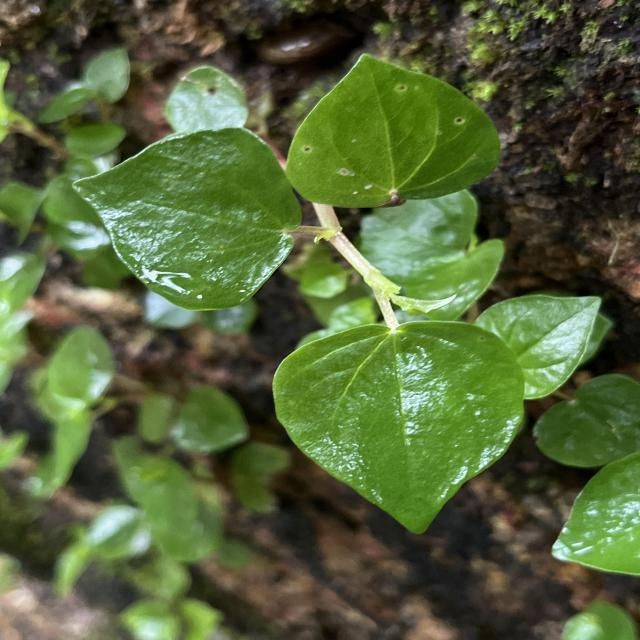Peperomia pellucida: (270, 317, 528, 538), (70, 119, 304, 315)
